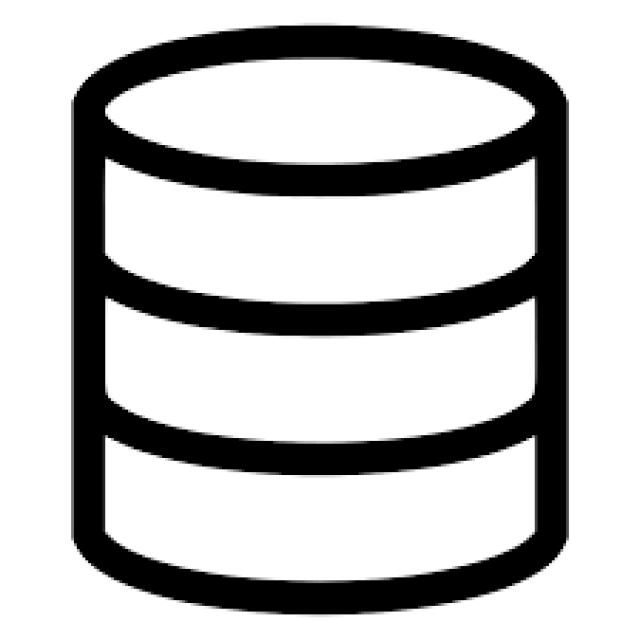Database: (28, 3, 606, 632)
